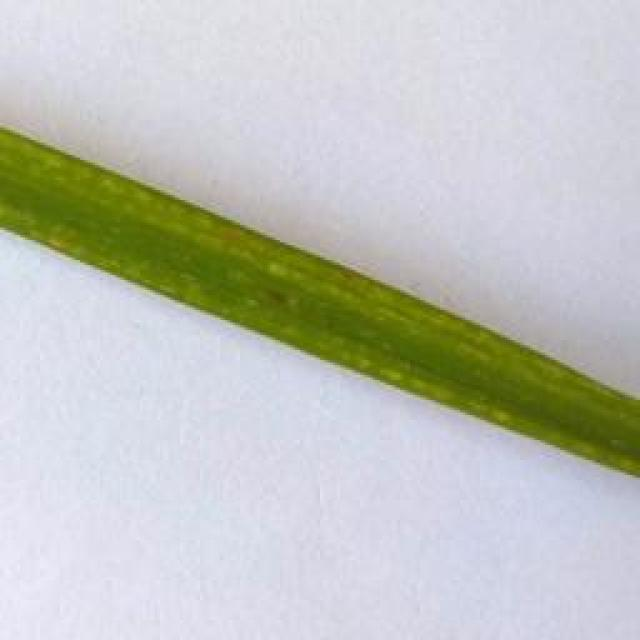Brown_Spot: (253, 282, 285, 306), (333, 260, 363, 285)
